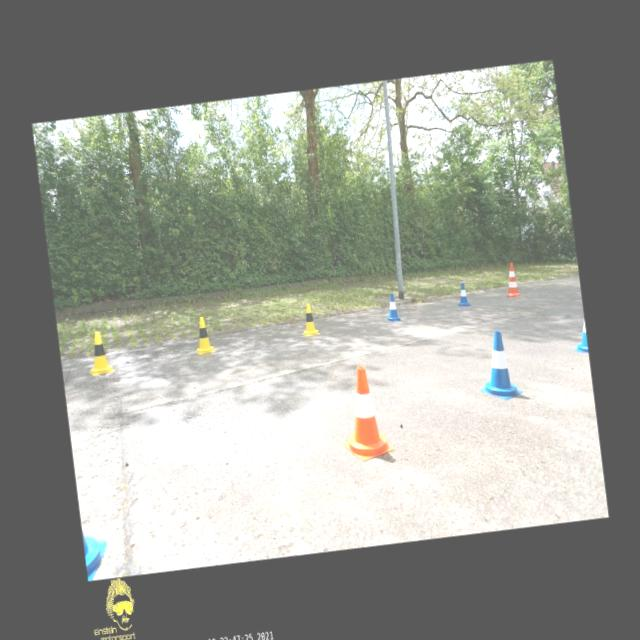blue_cone: (473, 327, 523, 402), (571, 316, 588, 354), (384, 292, 401, 322), (456, 282, 470, 306)
large_orange_cone: (502, 262, 520, 297)
orange_cone: (334, 363, 394, 462)
yellow_cone: (85, 330, 115, 376), (192, 316, 216, 354), (298, 302, 320, 336)
